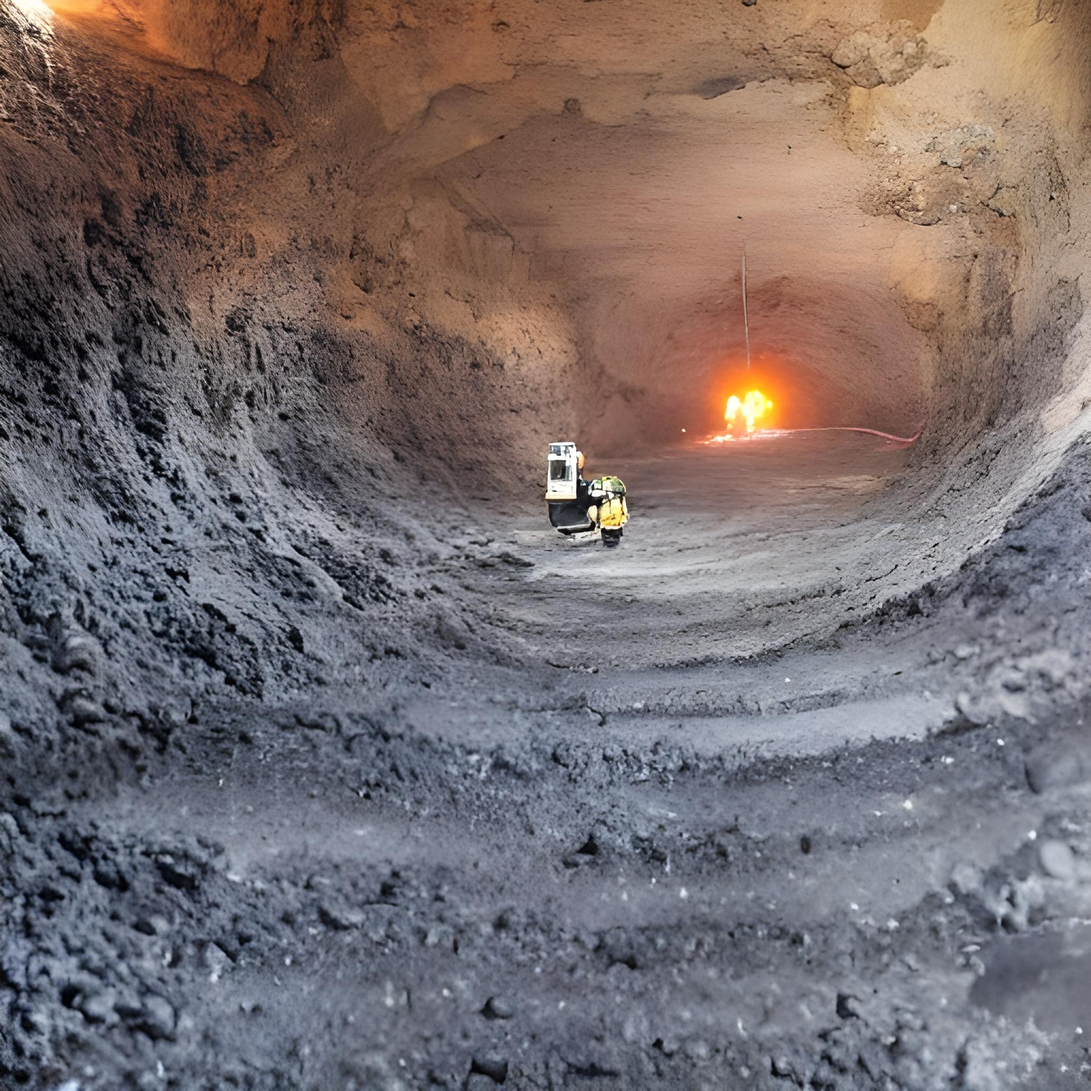fire: (700, 361, 805, 461)
